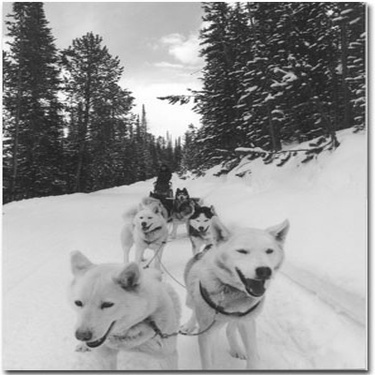dog: (48, 242, 189, 367), (183, 215, 295, 367), (100, 197, 177, 290), (173, 199, 237, 255), (111, 185, 173, 232), (164, 186, 207, 242), (137, 181, 172, 227)
